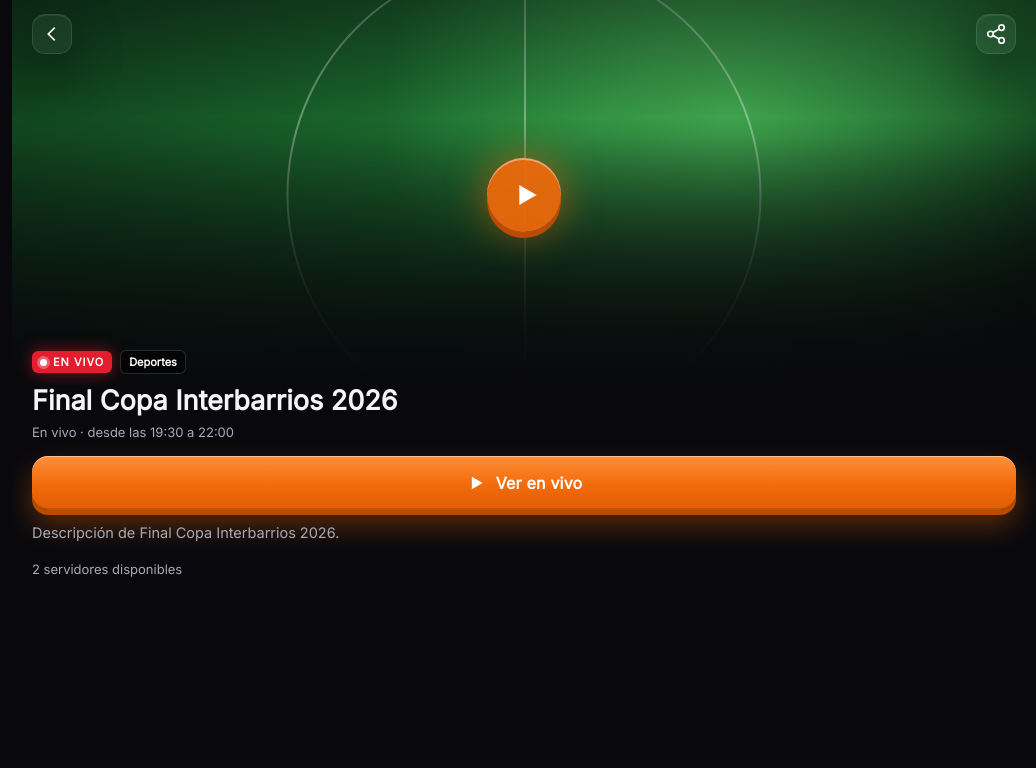
Test case: detalle en vivo lleva al reproductor
Click the button "Ver en vivo" at (524, 483), box [32,456,1016,510]
(page scrolled)
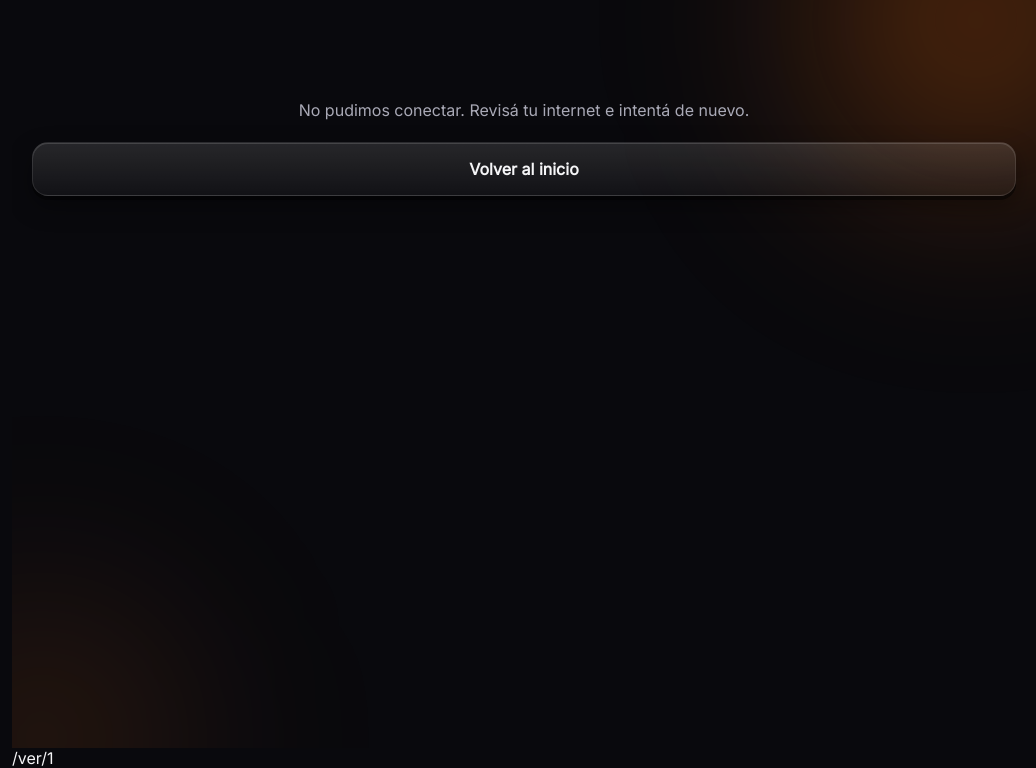
Expected: the text with test id "loc" reads "/ver/1", [12,748,54,767]
